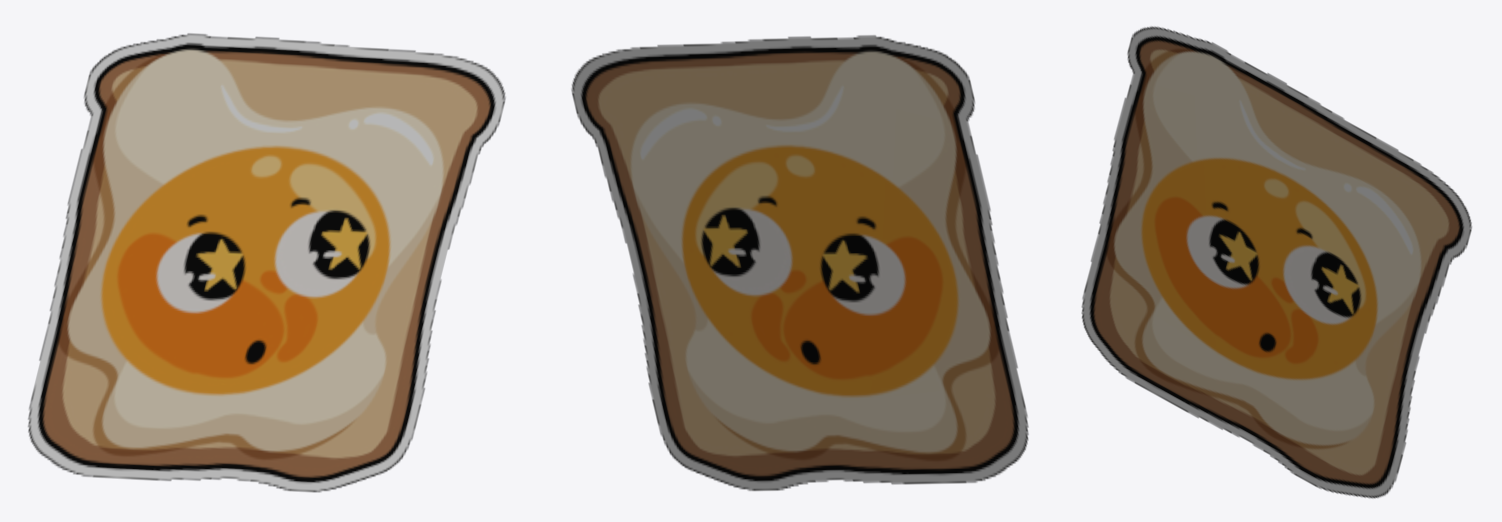
The model's file is Sticker_08.glb.
3 renders of one model, left to right at view 1: azimuth 30°, elevation 25°; view 2: azimuth 150°, elevation 25°; view 3: azimuth 330°, elevation 25°, orthographic. The views are drawn at different scales.
Visible parts, largest first — view 1: Sticker_08; view 2: Sticker_08; view 3: Sticker_08.
Part boxes in pixels (left/top/right/bottom): Sticker_08: left=28, top=33, right=505, bottom=492; Sticker_08: left=571, top=35, right=1028, bottom=490; Sticker_08: left=1081, top=26, right=1471, bottom=498.
Size of the model in its own units: 2.67 by 2.57 by 0.1059.
Materials: 1 (1 with a texture image).
